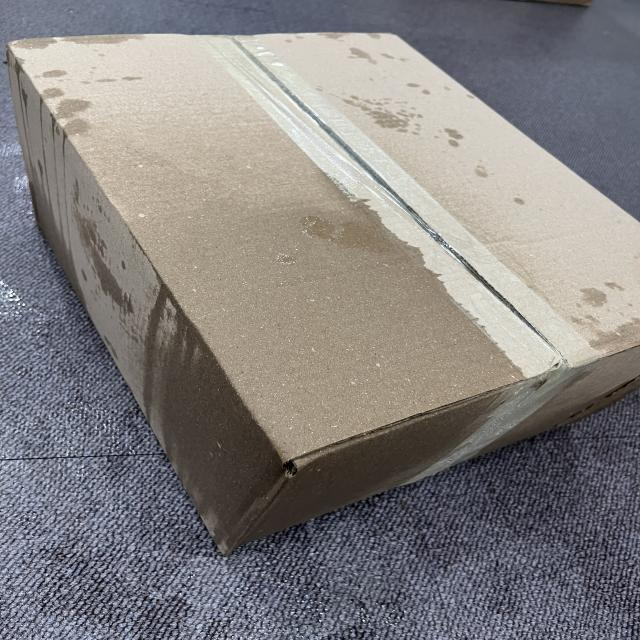wet: (141, 215, 507, 558)
